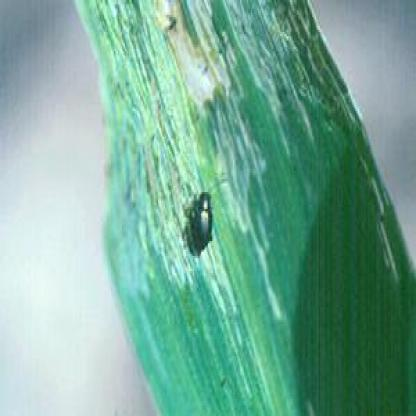beetle: (188, 175, 219, 257)
